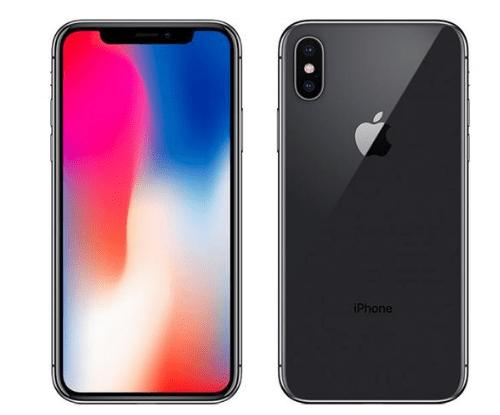phone: (49, 17, 242, 404), (278, 21, 470, 405)
